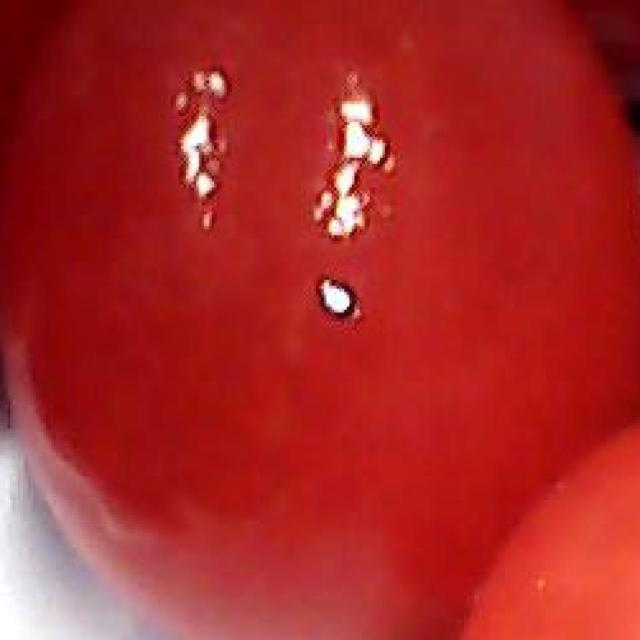Healthy Fruit: (8, 3, 427, 421)
